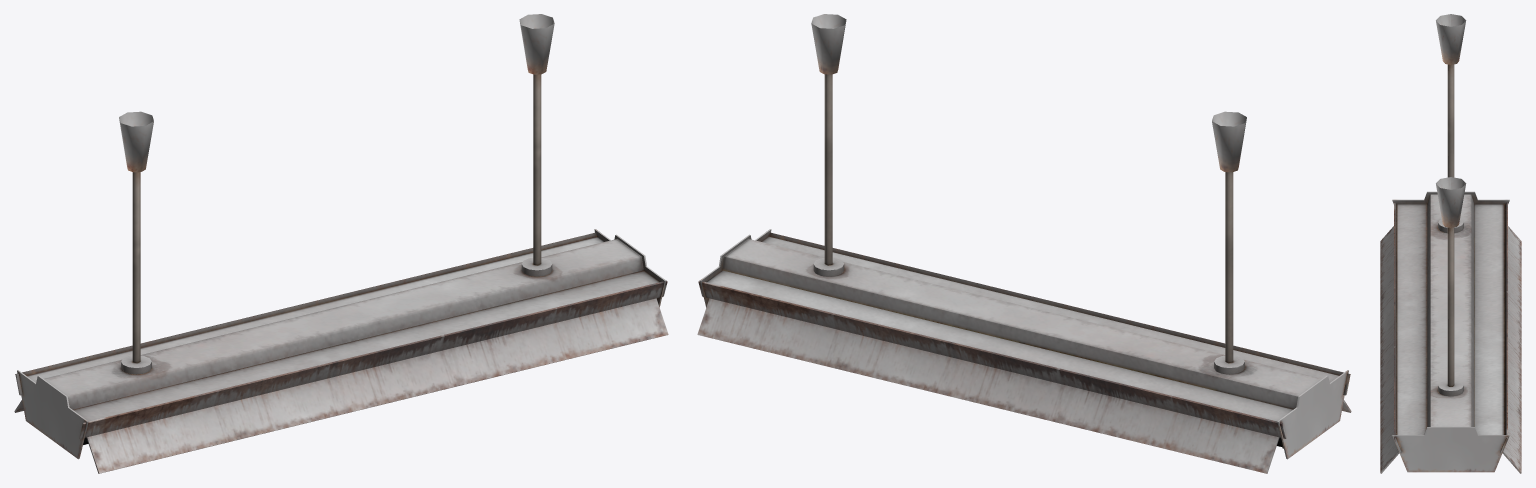
Rendered from lamp_1.FBX.
3 views of the same model, side by side, from view 1: azimuth 30°, elevation 25°; view 2: azimuth 150°, elevation 25°; view 3: azimuth 270°, elevation 25° (orthographic). The views are drawn at different scales.
Parts seen in each view (by area): view 1: LDS2; view 2: LDS2; view 3: LDS2.
Part boxes in pixels (x1=…): LDS2: x1=14, y1=14, x2=668, y2=473; LDS2: x1=697, y1=14, x2=1351, y2=473; LDS2: x1=1380, y1=14, x2=1521, y2=473.
Size of the model in its own units: 48.75 by 24.33 by 12.28.
1 material, 1 textured.
